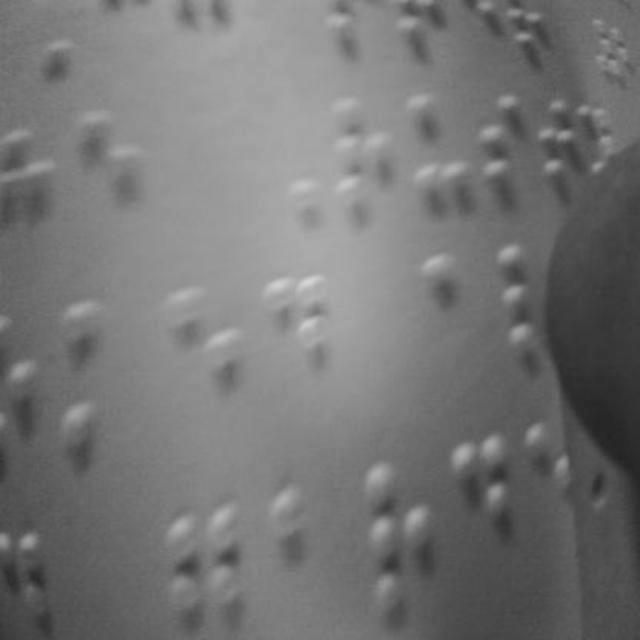braiile: (357, 458, 453, 622), (262, 478, 344, 640), (162, 287, 245, 437), (262, 266, 340, 422), (422, 247, 490, 377), (401, 86, 471, 210), (329, 92, 395, 218)
